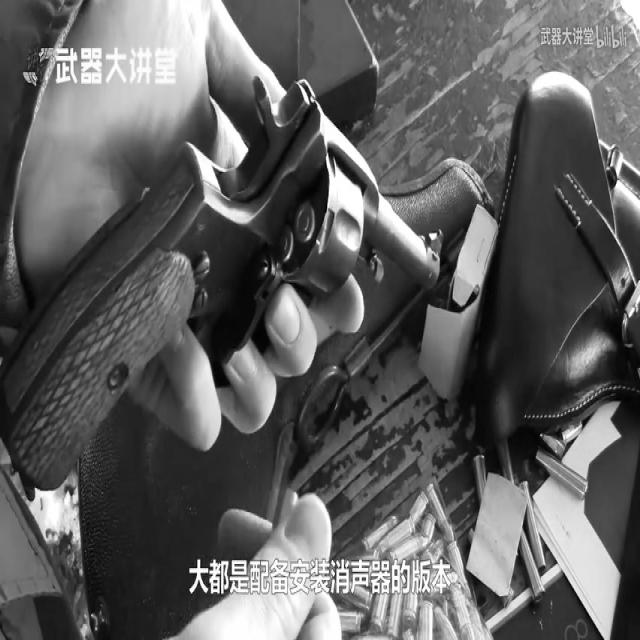Short-Gun: (0, 25, 475, 541)
